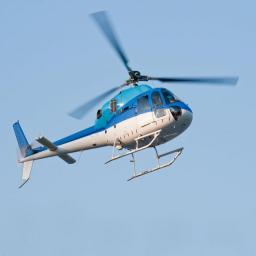helicopter: (13, 10, 240, 187)
